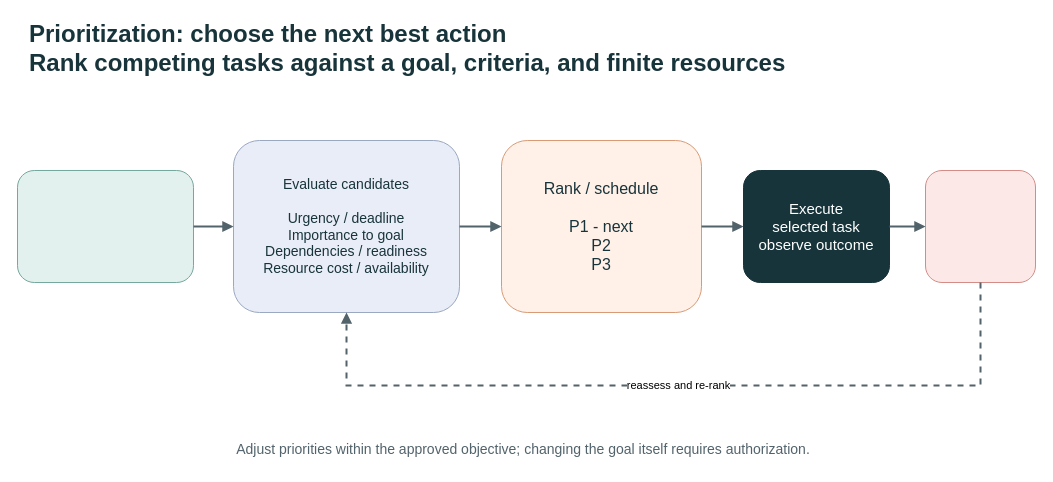
Image size: 1053x482. Some labels were removed from this diagram. The shapes that lost their labels are listed below. From the top down, each one's box as (x1, y1, x2, y2) in pixels, then its label:
(16, 170, 194, 282): Approved goal constraints + task list scope stays fixed
(924, 170, 1036, 282): New event deadline / resource change
